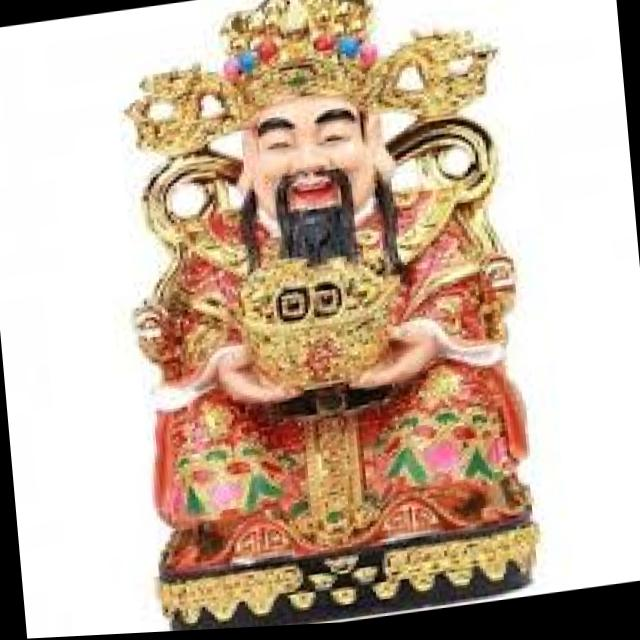Cai shen: (121, 0, 538, 587)
